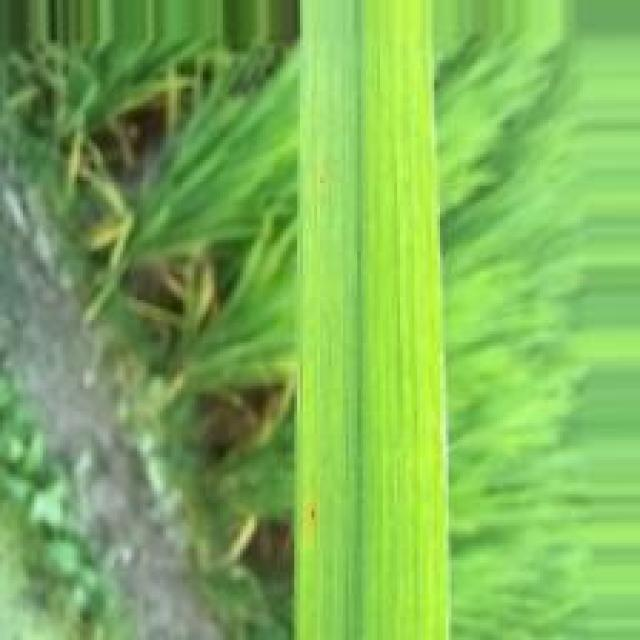HealthyLeaf: (294, 0, 449, 640)
